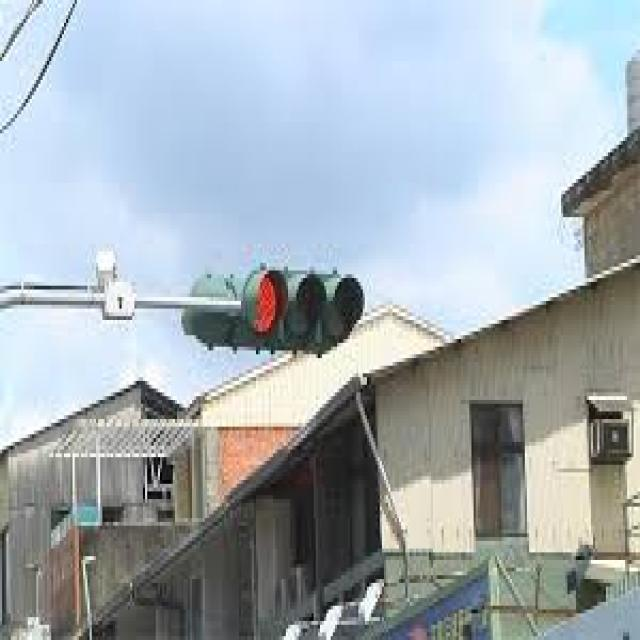red: (246, 272, 287, 338)
